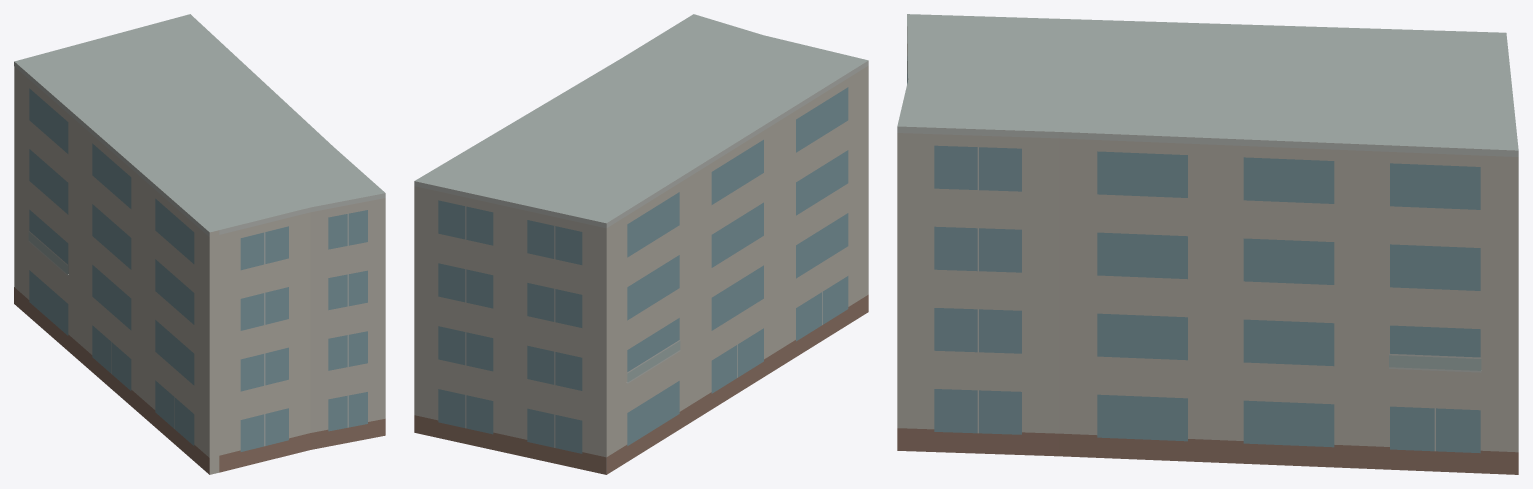
Rendered from survey-upis-32517304.glb.
The picture shows the model from 3 angles, left to right: view 1: azimuth 30°, elevation 25°; view 2: azimuth 150°, elevation 25°; view 3: azimuth 270°, elevation 25°; orthographic projection. The views are drawn at different scales.
Parts seen in each view (by area): view 1: survey-upis-32517304.tmp; view 2: survey-upis-32517304.tmp; view 3: survey-upis-32517304.tmp.
Boxes of the visible parts, <box> form: survey-upis-32517304.tmp: <box>14,14,385,474</box>; survey-upis-32517304.tmp: <box>414,14,868,474</box>; survey-upis-32517304.tmp: <box>897,14,1518,474</box>.
Size of the model in its own units: 11.03 by 12.2 by 21.2.
